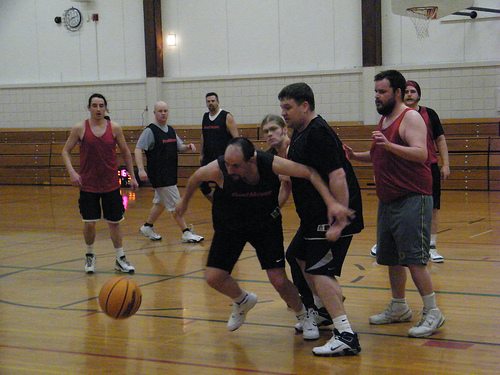basketball: (99, 276, 142, 319)
